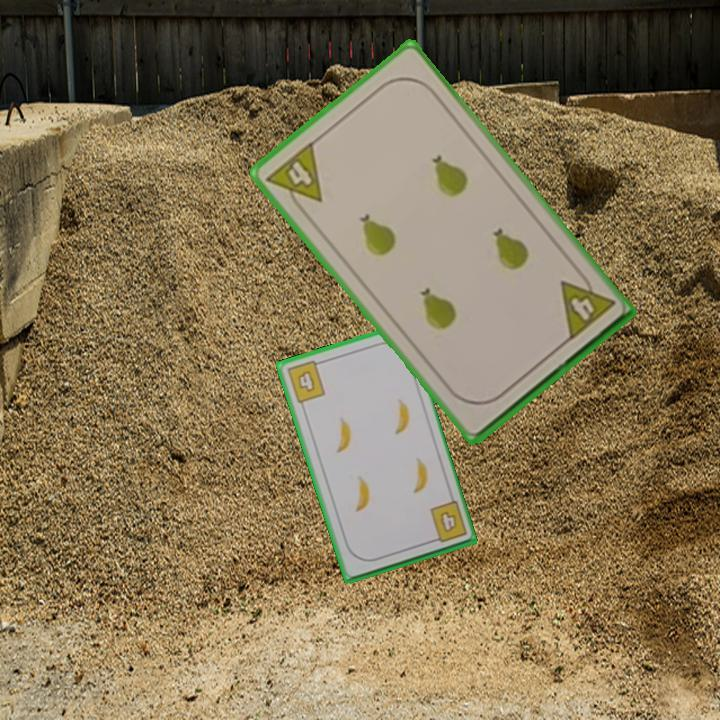4b: (283, 357, 328, 406), (425, 498, 470, 546)
4p: (262, 137, 325, 218), (556, 266, 618, 344)
